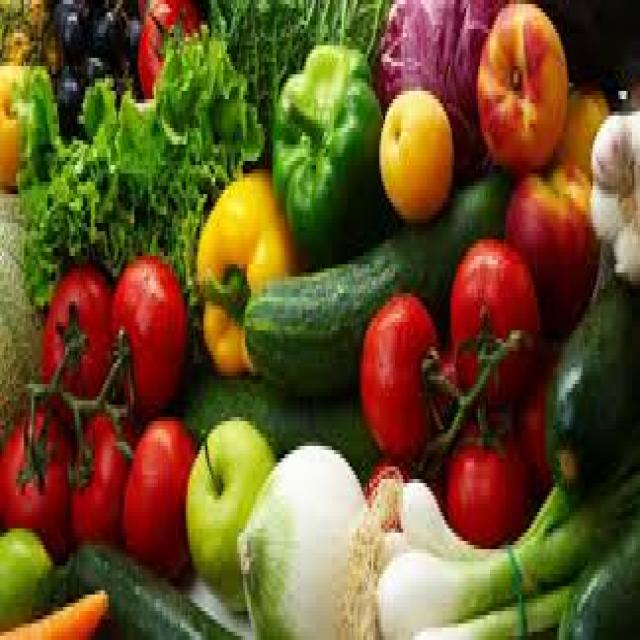organic waste: (8, 12, 263, 351), (241, 161, 504, 384), (332, 491, 638, 636), (235, 438, 379, 636), (269, 37, 391, 264), (206, 0, 387, 153), (373, 0, 507, 173), (194, 169, 302, 372), (543, 272, 638, 496), (371, 458, 573, 554), (30, 545, 239, 636), (183, 413, 274, 603), (502, 157, 598, 334), (474, 0, 565, 173), (448, 231, 538, 401), (356, 289, 438, 462), (442, 401, 530, 554), (120, 405, 196, 582), (110, 248, 186, 413), (40, 252, 112, 417), (0, 185, 45, 433), (0, 397, 67, 558), (555, 512, 638, 636), (376, 87, 450, 223), (66, 409, 134, 541), (589, 103, 638, 273), (360, 446, 444, 533), (512, 347, 559, 495), (136, 0, 204, 95), (0, 578, 107, 636), (0, 520, 53, 619), (0, 0, 59, 86), (555, 78, 608, 170), (0, 58, 18, 190), (79, 46, 117, 108), (435, 335, 462, 421), (53, 62, 81, 136), (55, 0, 83, 62), (89, 0, 118, 54), (118, 4, 136, 62)
